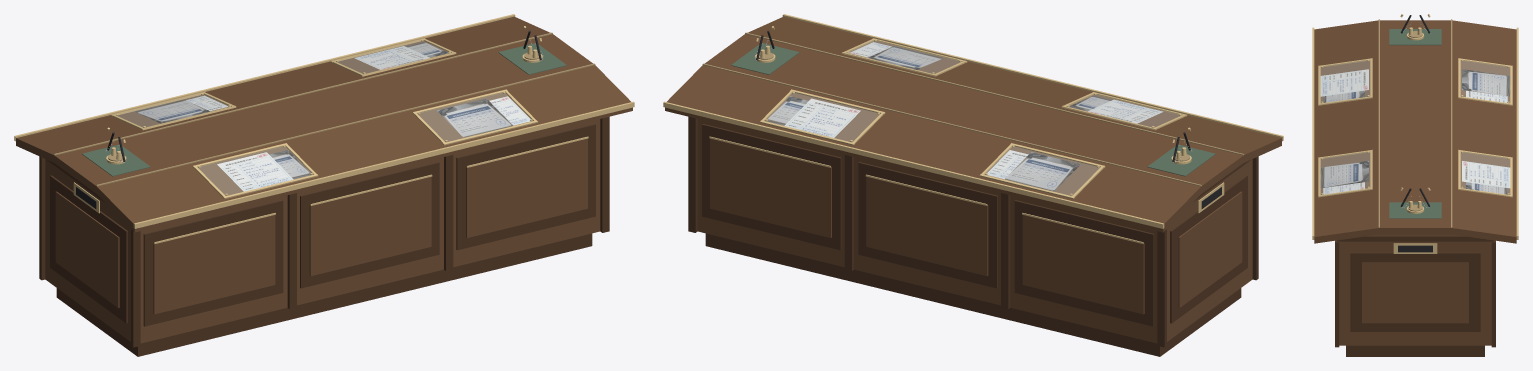
File: cs_form_desk.glb
The picture shows the model from 3 angles, left to right: view 1: azimuth 30°, elevation 25°; view 2: azimuth 150°, elevation 25°; view 3: azimuth 270°, elevation 25°; orthographic projection. The views are drawn at different scales.
Visible parts, largest first — view 1: cs_form_desk; view 2: cs_form_desk; view 3: cs_form_desk.
Part boxes in pixels (x1,y1,x2,y2): cs_form_desk: [14, 14, 634, 356]; cs_form_desk: [663, 14, 1283, 356]; cs_form_desk: [1312, 14, 1518, 356].
Size of the model in its own units: 3.41 by 1.23 by 1.43.
10 materials, 2 textured.
